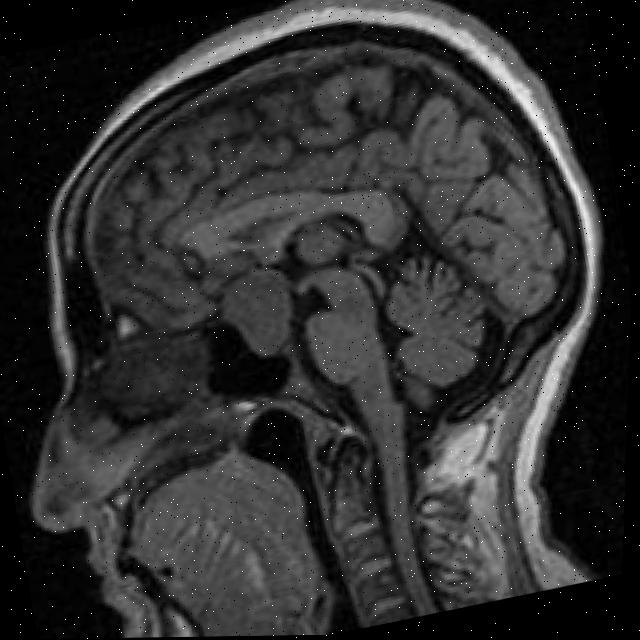NoTumor: (0, 0, 633, 462)
